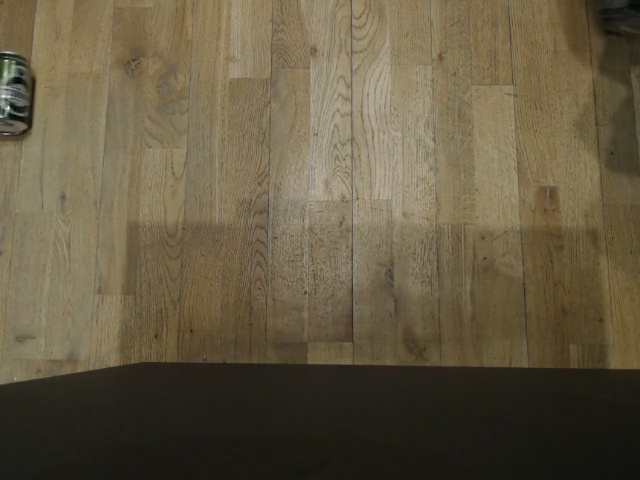beer: (0, 47, 34, 141)
